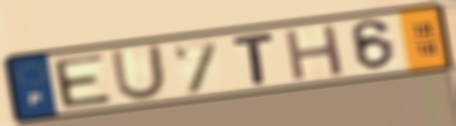6: (348, 19, 398, 72)
7: (171, 38, 221, 96)
E: (49, 51, 115, 110)
H: (281, 22, 347, 83)
T: (229, 31, 278, 87)
U: (108, 42, 169, 103)
